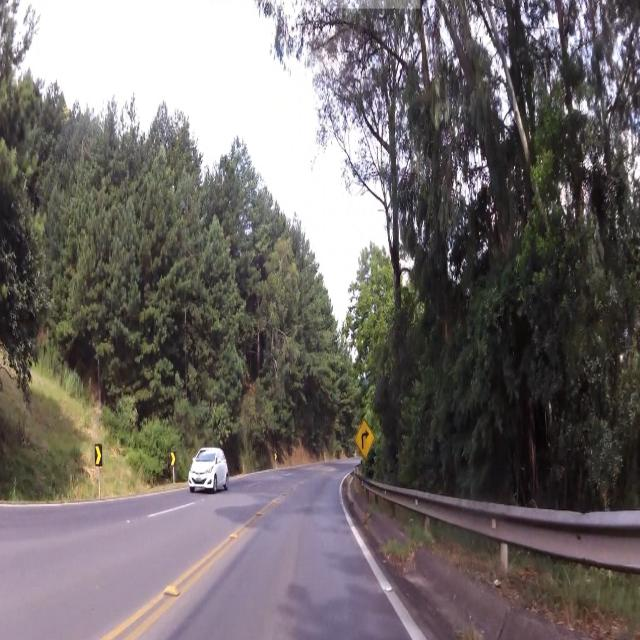A-1b: (354, 416, 379, 464)
